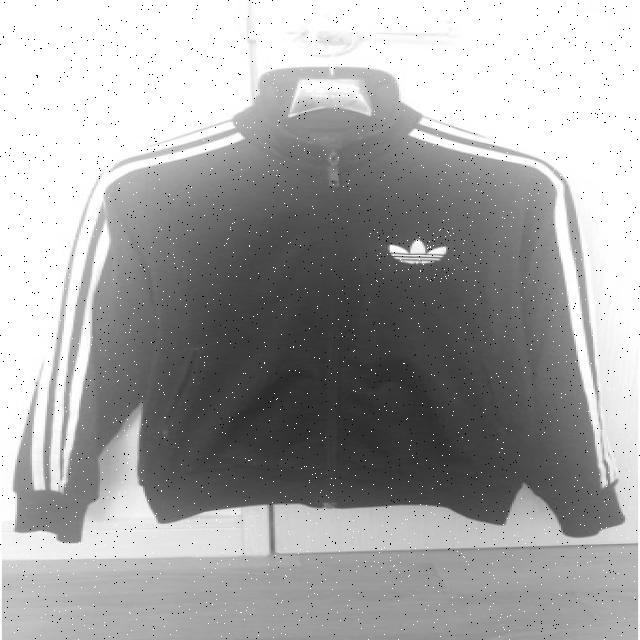Adidas: (373, 227, 465, 281)
